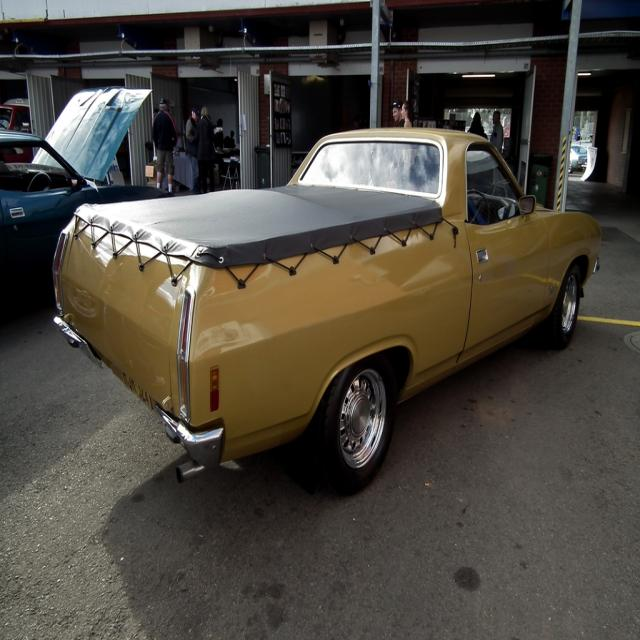car: (49, 132, 598, 495)
